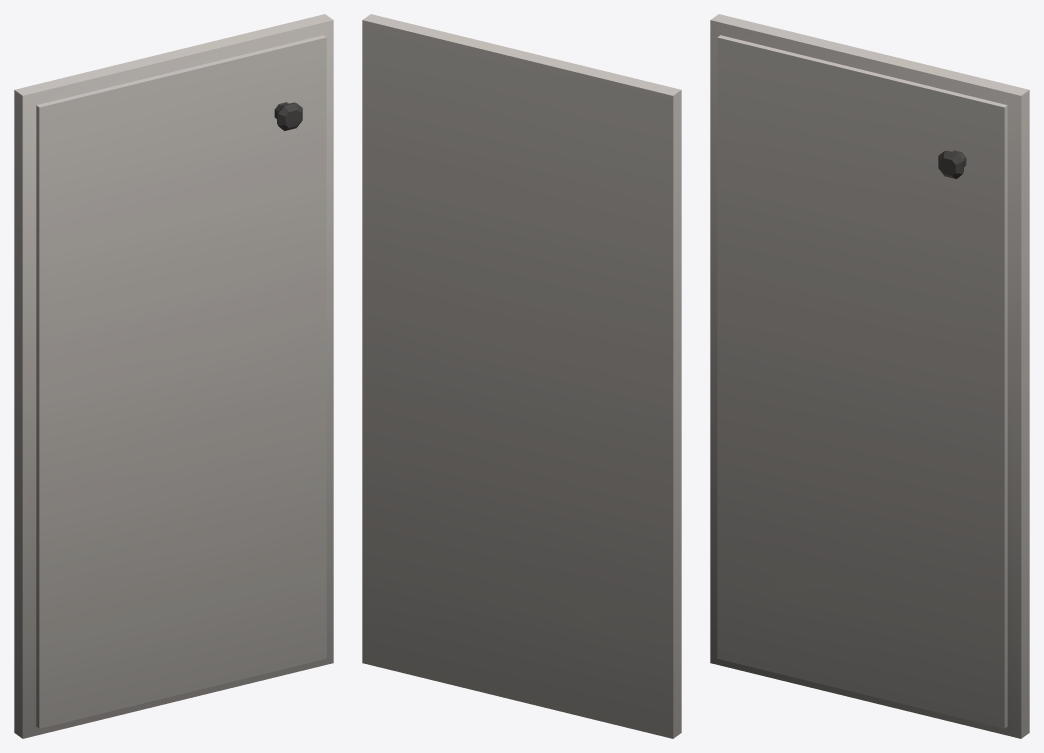
Rendered from Door_SinkBase_Left.fbx.
The picture shows the model from 3 angles, left to right: view 1: azimuth 30°, elevation 25°; view 2: azimuth 150°, elevation 25°; view 3: azimuth 330°, elevation 25°; orthographic projection.
Visible parts, largest first — view 1: Door_SinkBase_Left; view 2: Door_SinkBase_Left; view 3: Door_SinkBase_Left.
Part boxes in pixels (bbox=[...]): Door_SinkBase_Left: bbox=[14, 14, 333, 738]; Door_SinkBase_Left: bbox=[362, 14, 681, 738]; Door_SinkBase_Left: bbox=[710, 14, 1029, 738].
Bounding box in the file's own units: 37.14 × 73.43 × 5.15.
